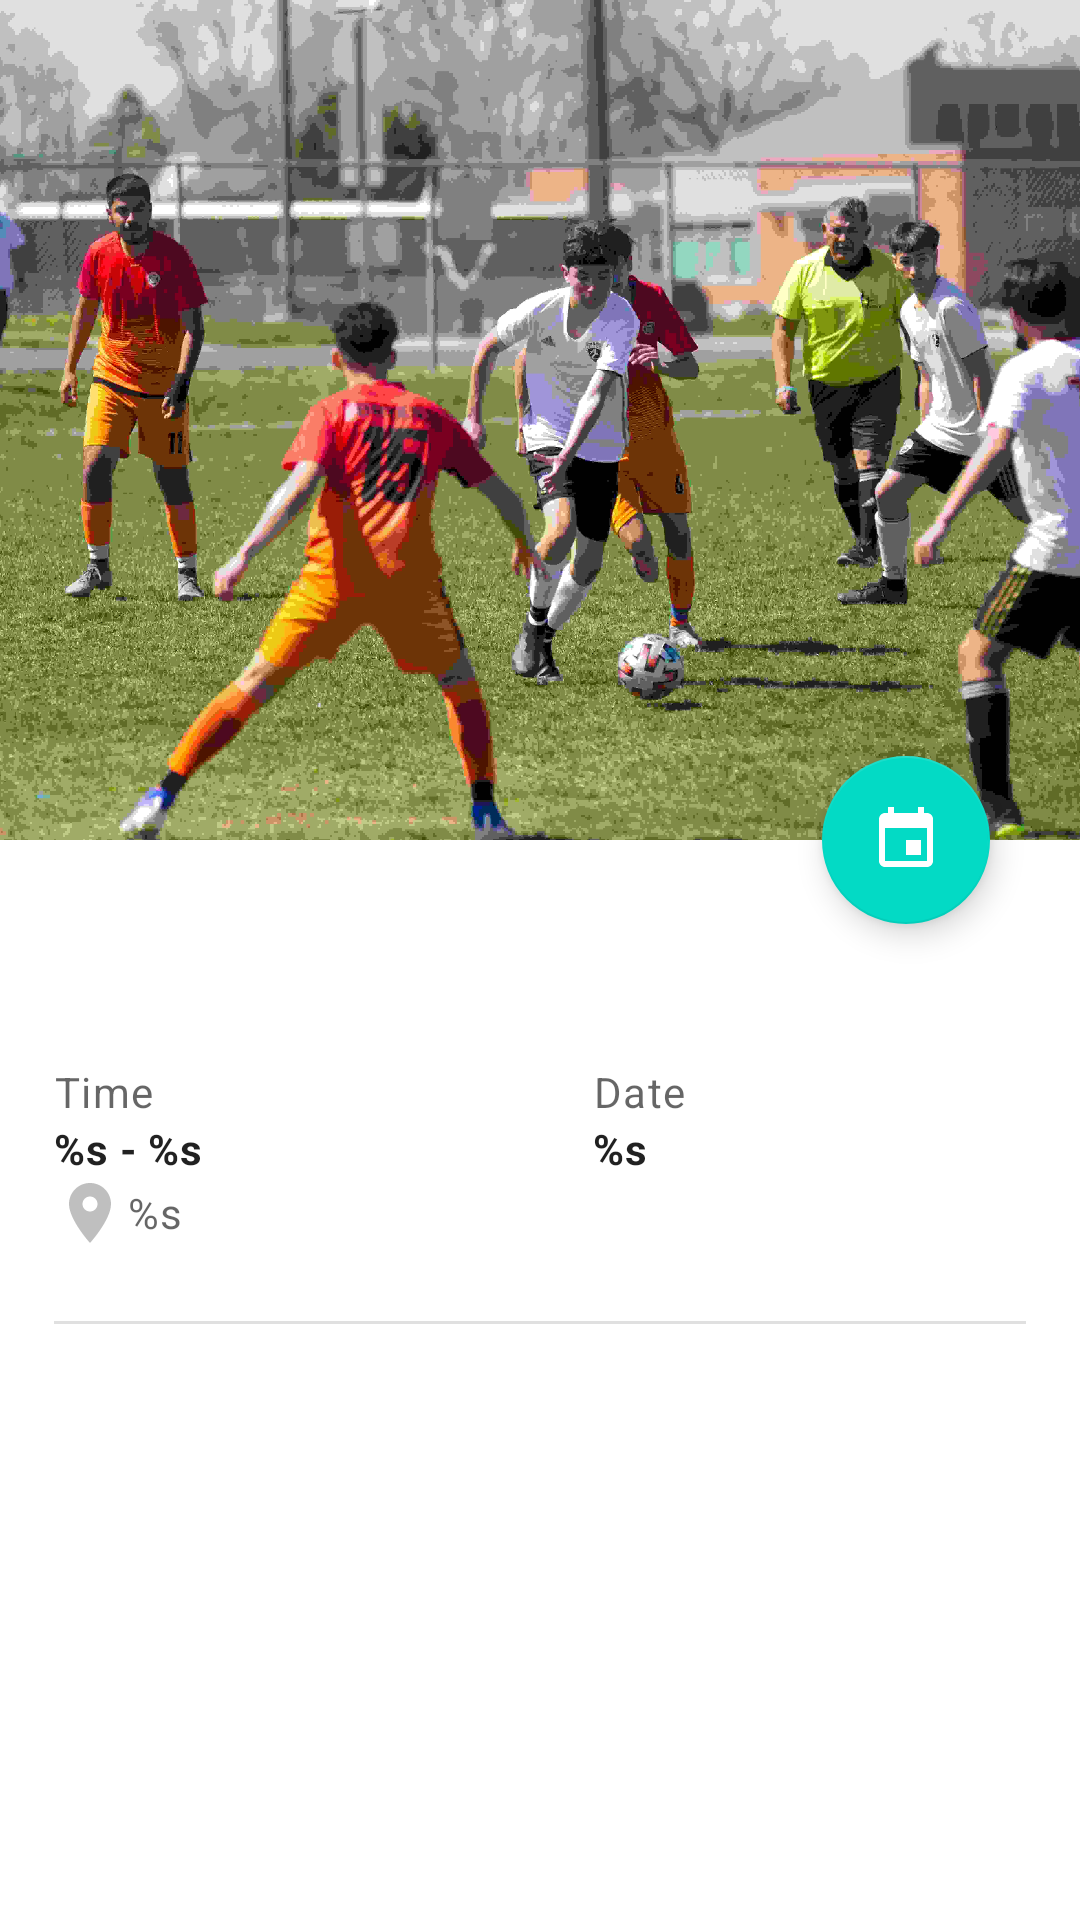

Icons on this 1080x1920 Android screen, each with the point to tap as point (x, y):
location image description: point (90, 1212)
